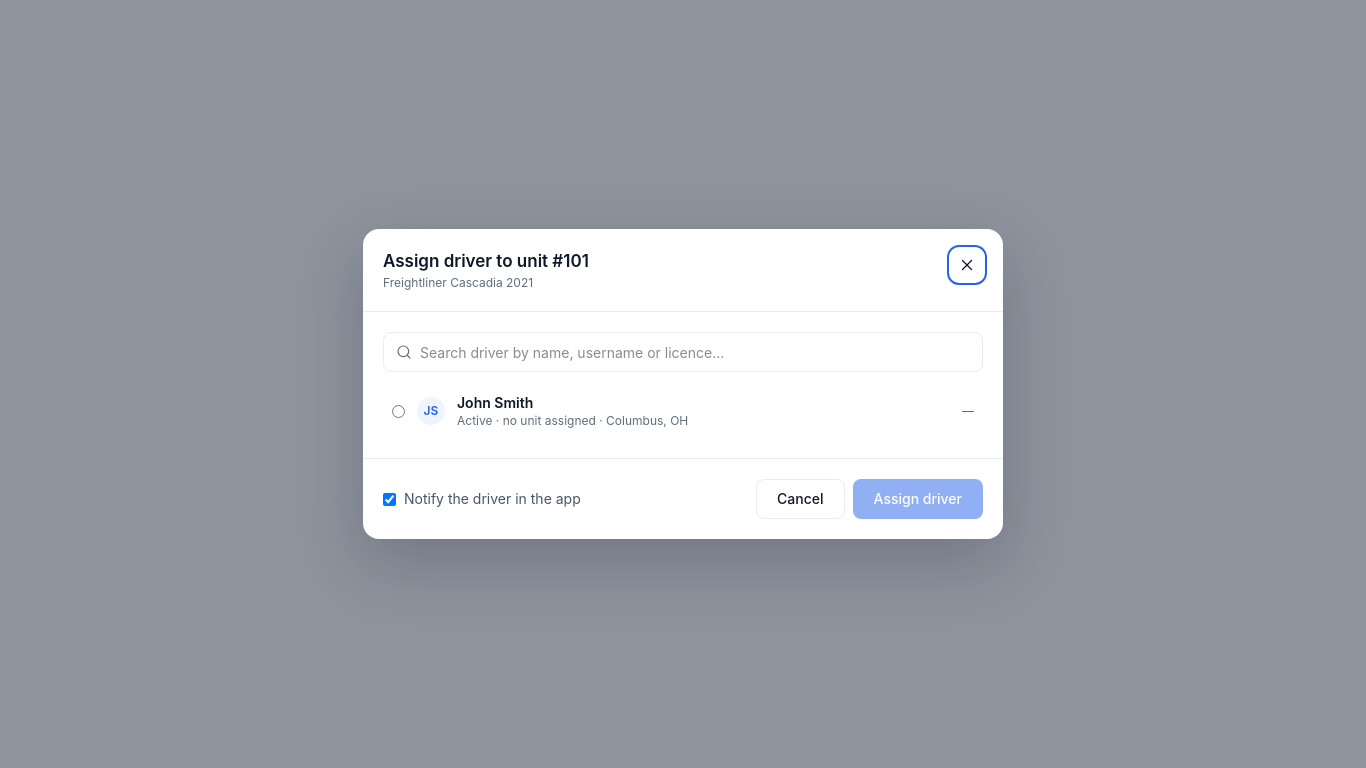
Test: 11.4 Assign driver — server validation › a 422 is spelled out, not the generic "check the highlighted fields"
The image size is (1366, 768).
Click the text "John Smith" at (495, 402), box top-left (457, 394), bottom-right (533, 411)
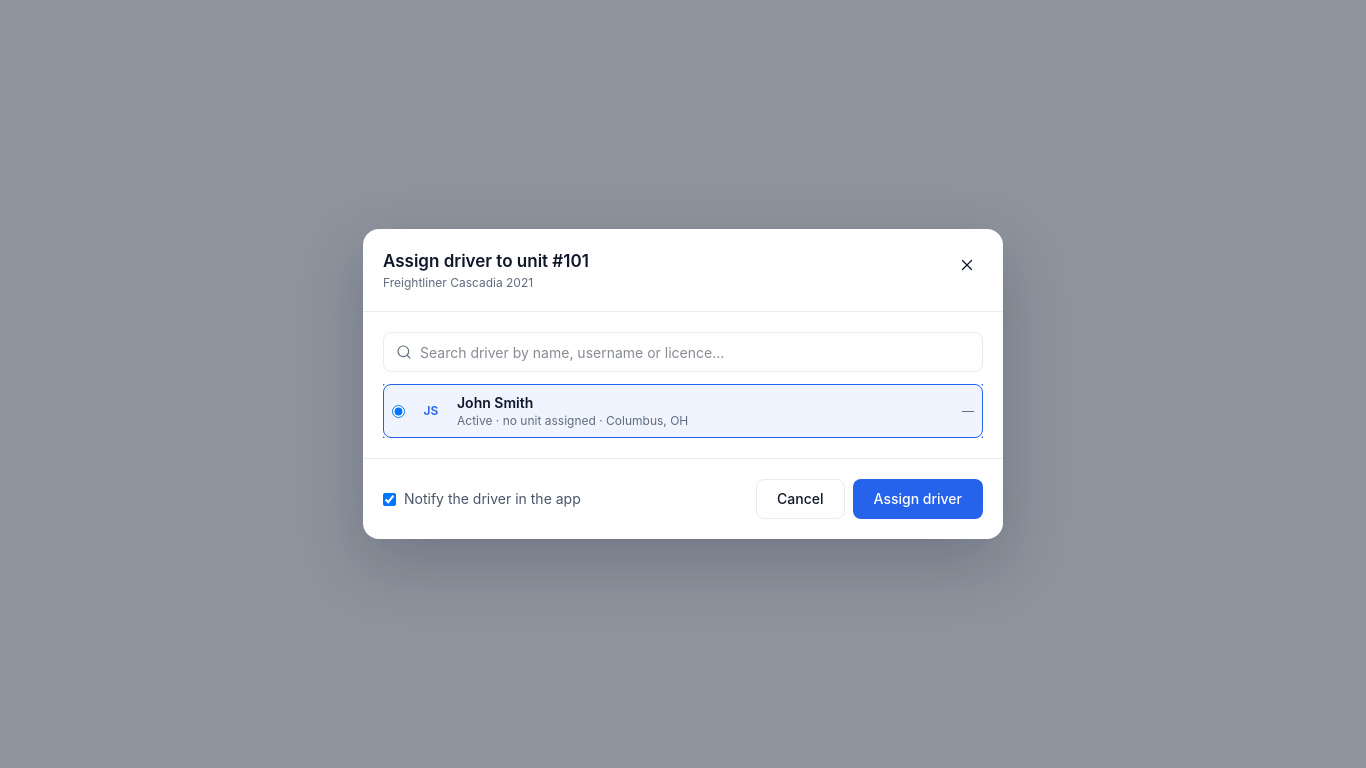
Click the button "Assign driver" at (918, 499), box top-left (853, 479), bottom-right (983, 519)
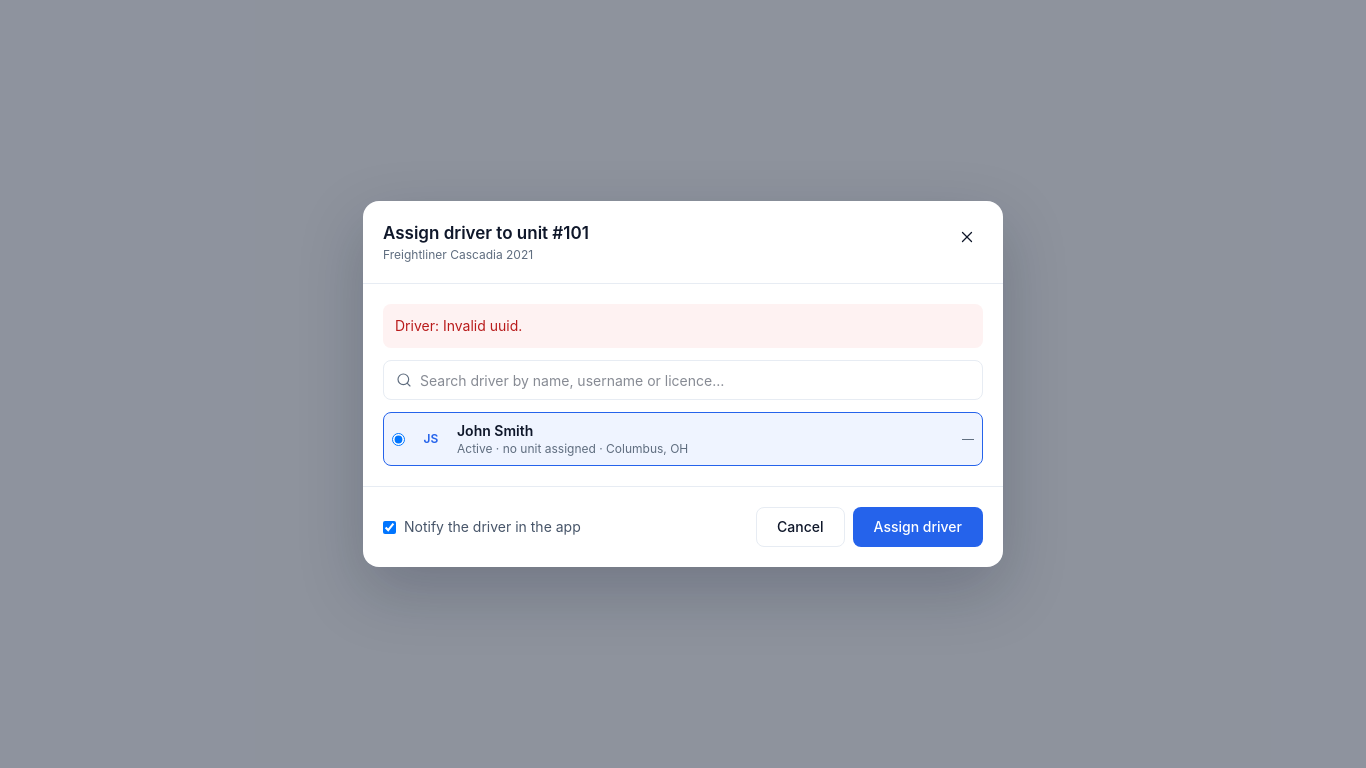
Expected: the text "Driver: Invalid uuid." is shown, top-left (383, 304), bottom-right (983, 348)
